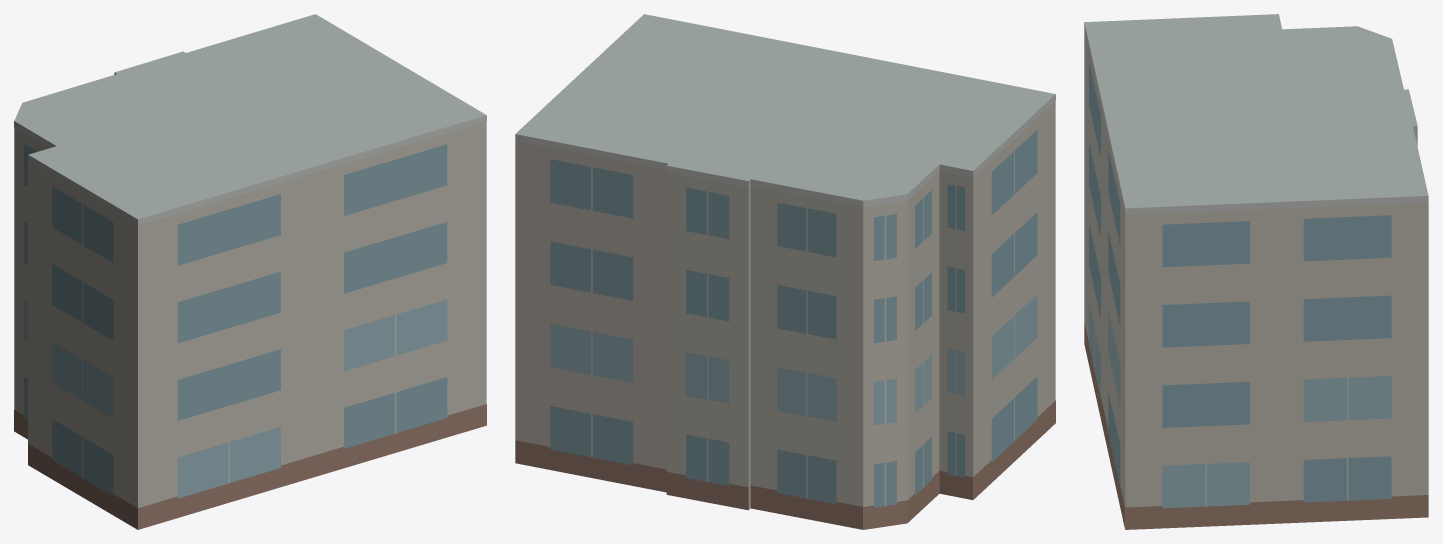
The model's file is survey-upis-32621098.glb.
The picture shows the model from 3 angles, left to right: view 1: azimuth 30°, elevation 25°; view 2: azimuth 150°, elevation 25°; view 3: azimuth 270°, elevation 25°; orthographic projection. The views are drawn at different scales.
Parts seen in each view (by area): view 1: survey-upis-32621098.tmp; view 2: survey-upis-32621098.tmp; view 3: survey-upis-32621098.tmp.
Part boxes in pixels (x1,y1,x2,y2): survey-upis-32621098.tmp: (14,14,486,529); survey-upis-32621098.tmp: (515,14,1055,529); survey-upis-32621098.tmp: (1084,14,1428,529).
Bounding box in the file's own units: 15.7 × 12.1 × 11.75.
